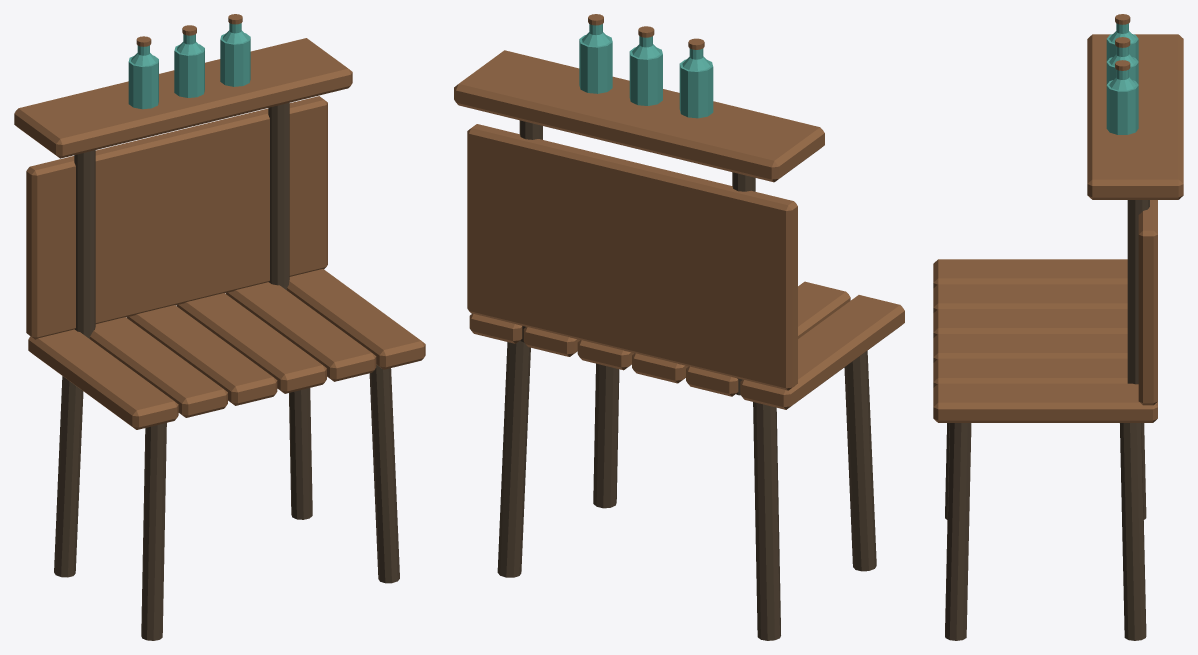
The model's file is Alchemy_Bench_A.glb.
3 renders of one model, left to right at view 1: azimuth 30°, elevation 25°; view 2: azimuth 150°, elevation 25°; view 3: azimuth 270°, elevation 25°, orthographic. The views are drawn at different scales.
Visible parts, largest first — view 1: Alchemy_Bench_A; view 2: Alchemy_Bench_A; view 3: Alchemy_Bench_A.
Boxes of the visible parts, box(x1,y1,x2,y2) form: Alchemy_Bench_A: box(14, 14, 425, 640); Alchemy_Bench_A: box(454, 14, 904, 640); Alchemy_Bench_A: box(933, 14, 1183, 640).
Size of the model in its own units: 1.1 by 1.85 by 0.78.
